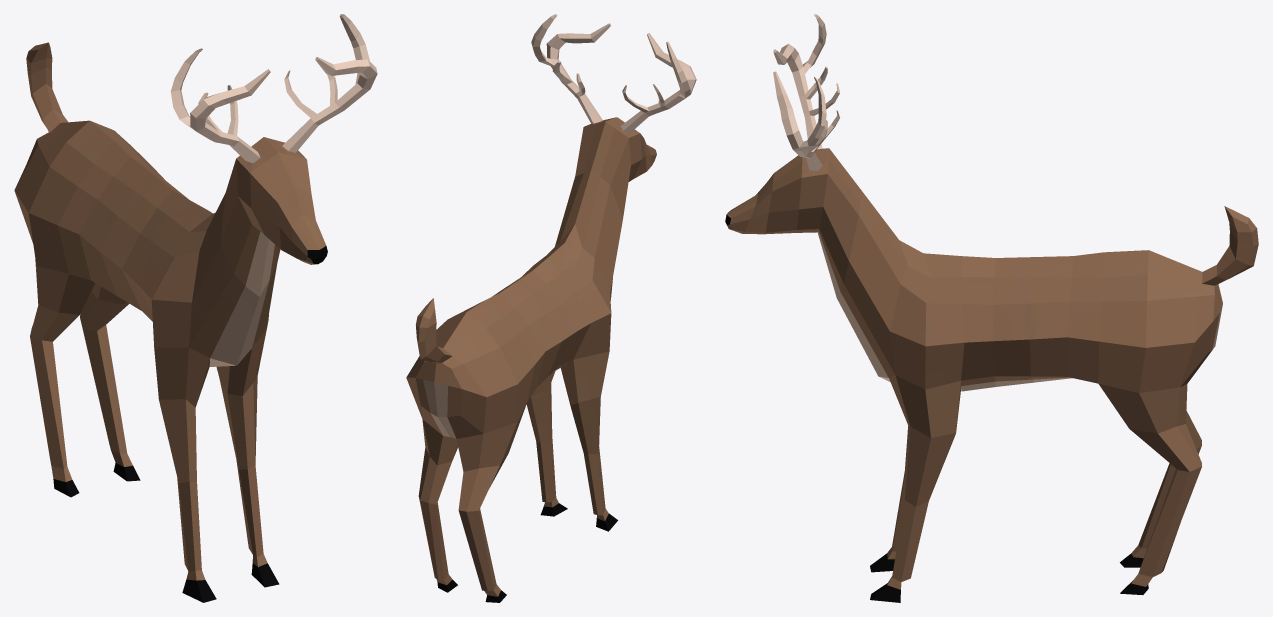
File: deer.glb
3 renders of one model, left to right at view 1: azimuth 30°, elevation 25°; view 2: azimuth 150°, elevation 25°; view 3: azimuth 270°, elevation 25°, orthographic. The views are drawn at different scales.
Parts seen in each view (by area): view 1: 05deerFinal; view 2: 05deerFinal; view 3: 05deerFinal.
Boxes of the visible parts, bbox=[...] form: 05deerFinal: bbox=[14, 14, 377, 602]; 05deerFinal: bbox=[406, 14, 696, 602]; 05deerFinal: bbox=[725, 14, 1258, 602].
Size of the model in its own units: 0.7143 by 2.03 by 1.83.
1 material, 1 textured.
